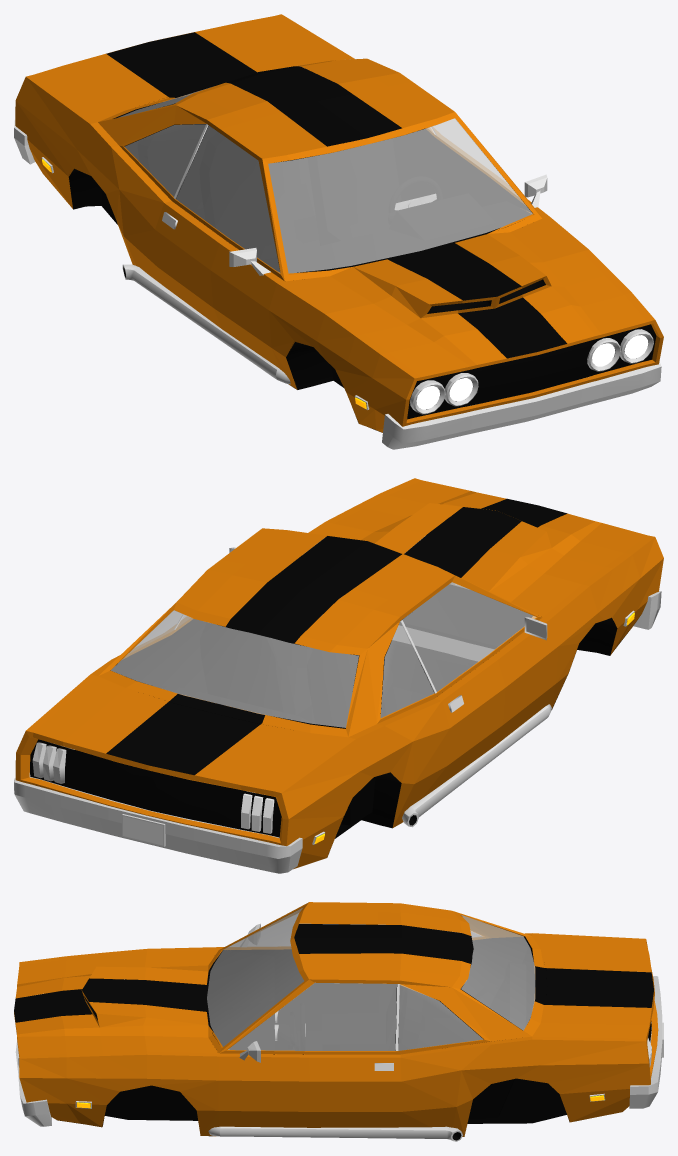
The model's file is chassis-draco.glb.
3 views of the same model, one above another, from view 1: azimuth 30°, elevation 25°; view 2: azimuth 150°, elevation 25°; view 3: azimuth 270°, elevation 25° (orthographic). The views are drawn at different scales.
Parts seen in each view (by area): view 1: Chassis, Cabin_Grilles, Glass, Chrome, Undercarriage, HeadLights, Wheel; view 2: Chassis, Cabin_Grilles, Glass, Chrome, Undercarriage, BrakeLights, License; view 3: Chassis, Glass, Cabin_Grilles, Chrome, Undercarriage.
Boxes of the visible parts, box(x1,y1,x2,y2) form: Chassis: box(15, 14, 663, 432); Cabin_Grilles: box(113, 68, 656, 419); Glass: box(118, 59, 532, 273); Chrome: box(14, 120, 661, 449); Undercarriage: box(68, 168, 550, 432); HeadLights: box(416, 335, 648, 409); Wheel: box(389, 176, 442, 212); Chassis: box(15, 478, 663, 869); Cabin_Grilles: box(30, 505, 532, 837); Glass: box(111, 539, 536, 727); Chrome: box(14, 536, 661, 873); Undercarriage: box(75, 520, 627, 857); BrakeLights: box(32, 742, 274, 833); License: box(122, 814, 165, 846); Chassis: box(14, 902, 658, 1136); Glass: box(207, 908, 535, 1050); Cabin_Grilles: box(205, 936, 651, 1118); Chrome: box(15, 923, 662, 1141); Undercarriage: box(58, 978, 569, 1140).
Size of the model in its own units: 2.18 by 1.18 by 4.72.
